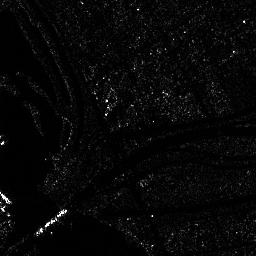ship: (35, 210, 69, 235)
